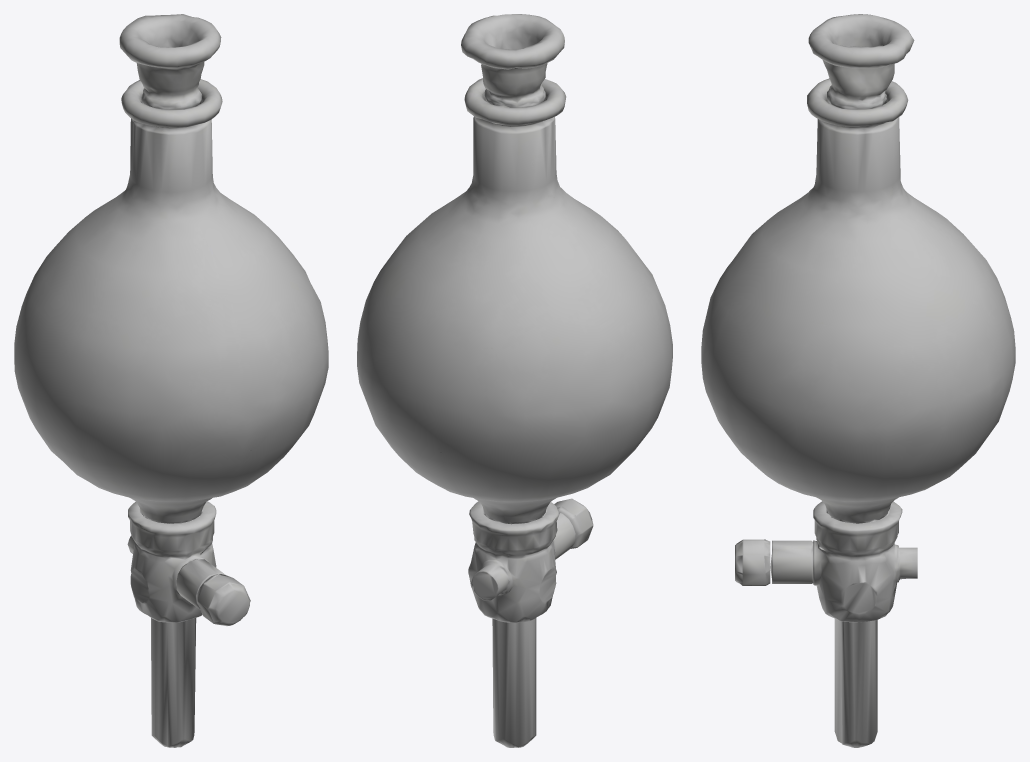
3 renders of one model, left to right at view 1: azimuth 30°, elevation 25°; view 2: azimuth 150°, elevation 25°; view 3: azimuth 270°, elevation 25°, orthographic.
Visible parts, largest first — view 1: tripo_node_e1775d6d; view 2: tripo_node_e1775d6d; view 3: tripo_node_e1775d6d.
Boxes of the visible parts, <box> form: tripo_node_e1775d6d: <box>14,14,328,747</box>; tripo_node_e1775d6d: <box>357,14,672,747</box>; tripo_node_e1775d6d: <box>701,14,1015,747</box>.
Size of the model in its own units: 0.4004 by 0.998 by 0.4004.
1 material, 1 textured.
